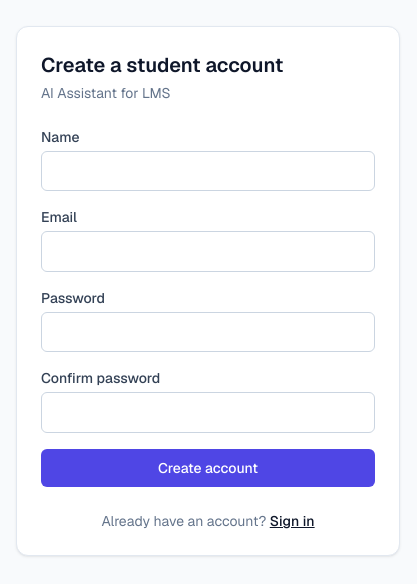
Test: <RegisterForm /> › shows a mismatch error without hitting the API
In the field labelled "Name": (208, 171) [41,151,375,191], type "New Student"
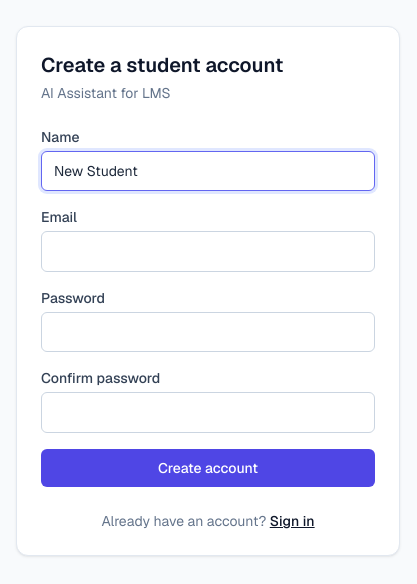
In the field labelled "Email": (208, 252) [41,231,375,272], type "new@demo.com"
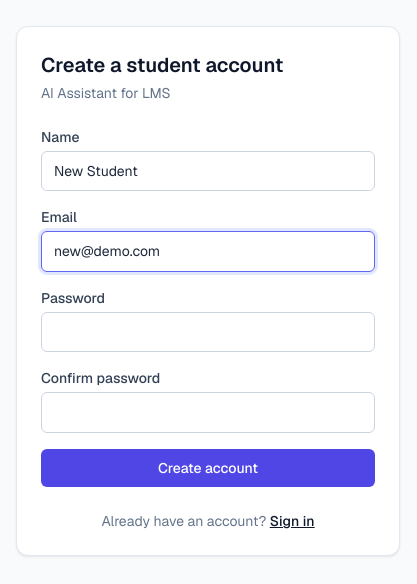
In the password field labelled "Password": (208, 332) [41,312,375,352], type "notebook123"
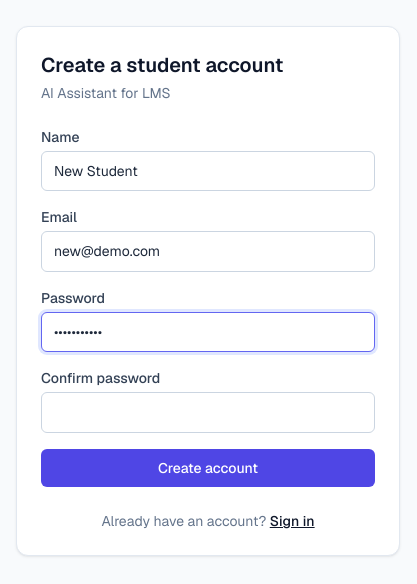
In the password field labelled "Confirm password": (208, 412) [41,392,375,433], type "notebook124"
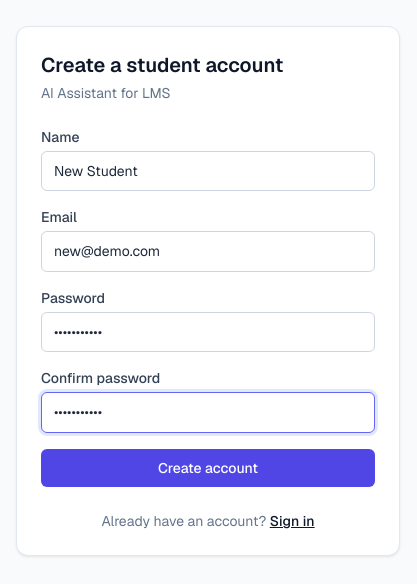
Click the button "Create account": (208, 468) [41,449,375,487]
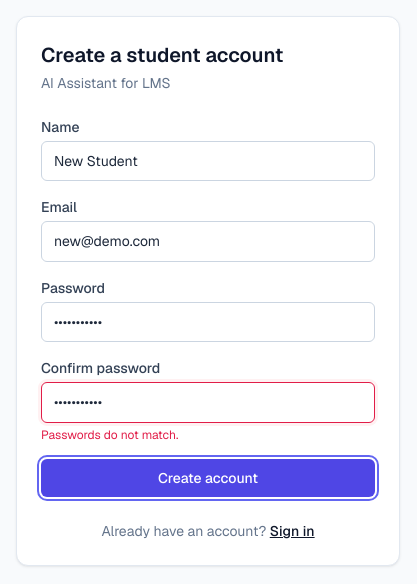
Now the text "Passwords do not match." is shown, box [41,427,178,443]
